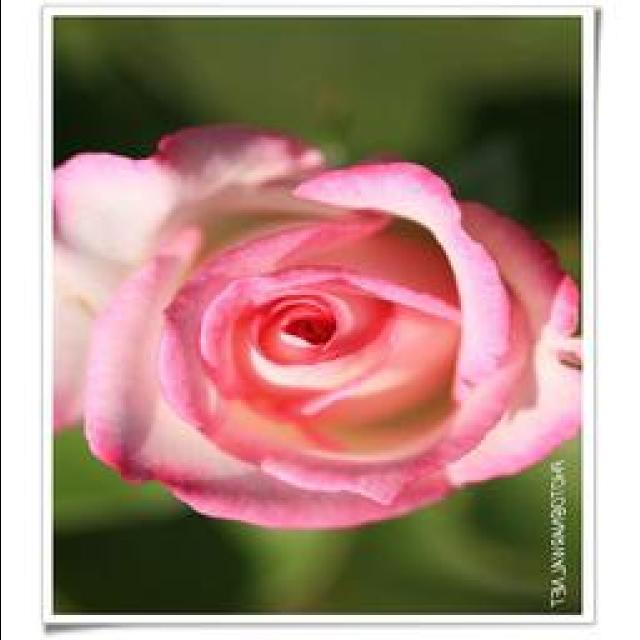rose: (60, 132, 558, 540)
